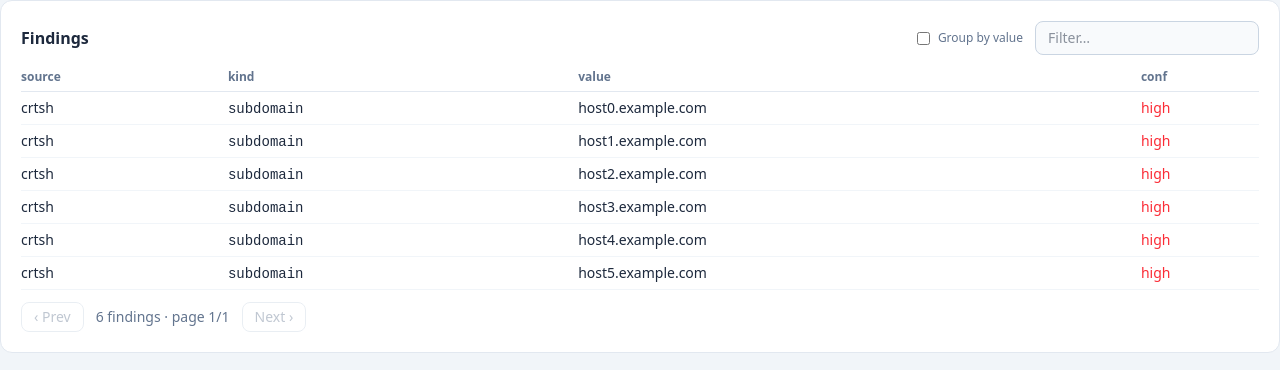
Test case: FindingsTable › filters findings by the search box
Type "host4" into the search field with placeholder "Filter…" at [1147, 38], box x1=1035 y1=21 x2=1259 y2=55
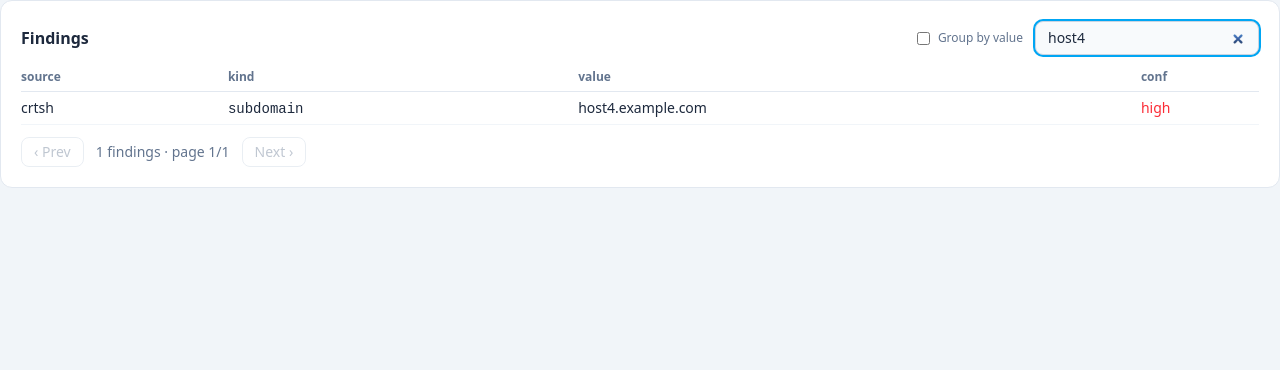
Expected: the text "host4.example.com" is shown, x1=578 y1=92 x2=1141 y2=124
Now the text "host0.example.com" is gone
